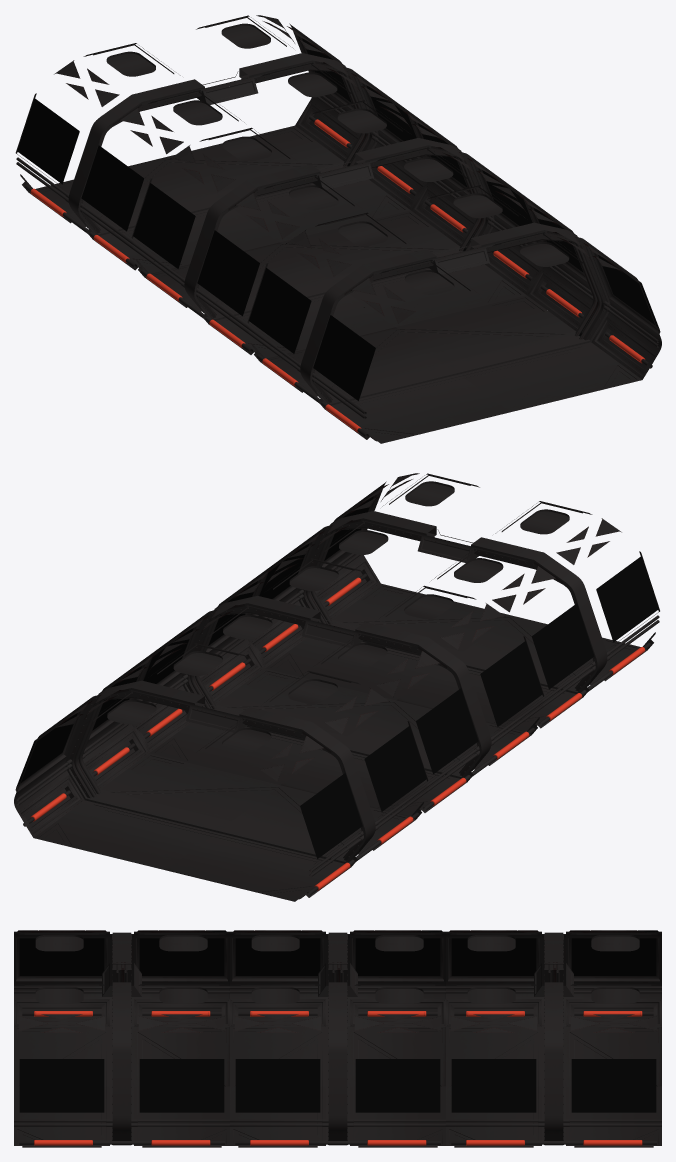
File: room.fbx
3 renders of one model, top to bottom at view 1: azimuth 30°, elevation 25°; view 2: azimuth 150°, elevation 25°; view 3: azimuth 270°, elevation 25°, orthographic. The views are drawn at different scales.
Visible parts, largest first — view 1: Room.001, Floor.001, Pillars.001, Top_Lights.001, Red_Lights_2.001; view 2: Room.001, Floor.001, Pillars.001, Top_Lights.001, Red_Lights_2.001; view 3: Room.001, Floor.001, Pillars.001, Top_Lights.001, Red_Lights_2.001.
Boxes of the visible parts, <box> form: Room.001: <box>15,15,661,441</box>; Floor.001: <box>35,125,641,443</box>; Pillars.001: <box>16,53,659,419</box>; Top_Lights.001: <box>106,23,569,294</box>; Red_Lights_2.001: <box>25,115,652,437</box>; Room.001: <box>14,473,659,899</box>; Floor.001: <box>34,583,640,901</box>; Pillars.001: <box>16,511,659,877</box>; Top_Lights.001: <box>107,481,569,752</box>; Red_Lights_2.001: <box>23,573,650,895</box>; Room.001: <box>14,930,661,1147</box>; Floor.001: <box>14,1027,661,1145</box>; Pillars.001: <box>14,932,661,1145</box>; Top_Lights.001: <box>35,935,639,1003</box>; Red_Lights_2.001: <box>19,1011,656,1145</box>.
Size of the model in its own units: 59.14 by 23.96 by 118.
7 materials, 7 textured.
